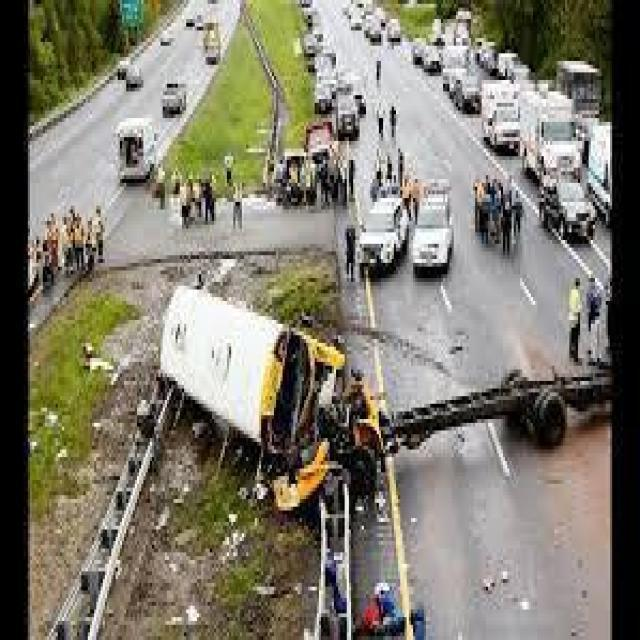multiple_accident: (221, 284, 421, 540)
